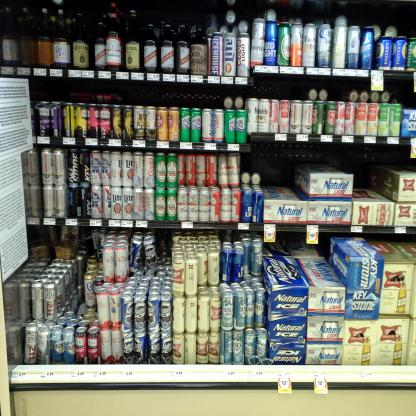Void: (35, 78, 220, 105), (265, 146, 306, 198), (356, 147, 393, 197), (252, 77, 307, 97), (308, 148, 351, 172), (397, 144, 414, 168), (401, 78, 414, 107), (29, 228, 50, 244), (330, 77, 346, 97)
